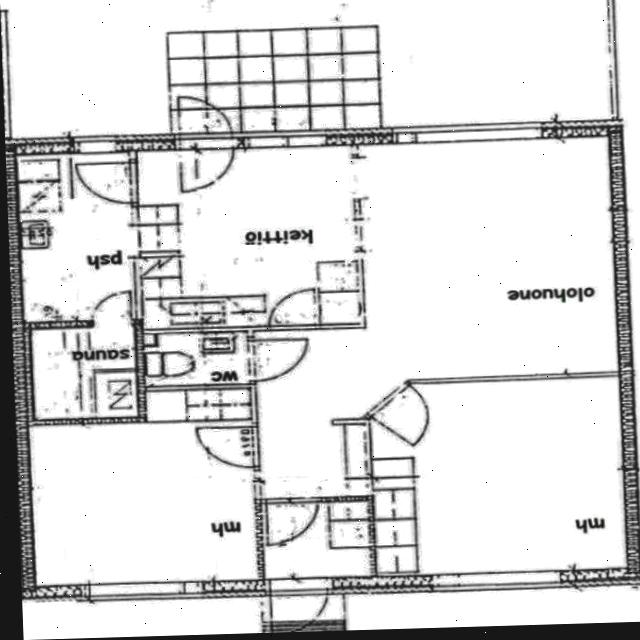room: (368, 376, 626, 576), (136, 144, 360, 331), (30, 420, 258, 586), (15, 149, 137, 327), (32, 327, 139, 420), (263, 501, 377, 579), (144, 331, 249, 386), (319, 290, 360, 326), (318, 261, 359, 292)
